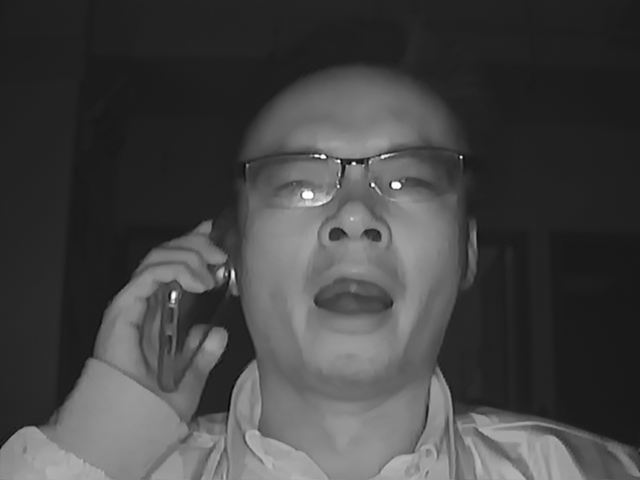hand: (98, 216, 234, 404)
